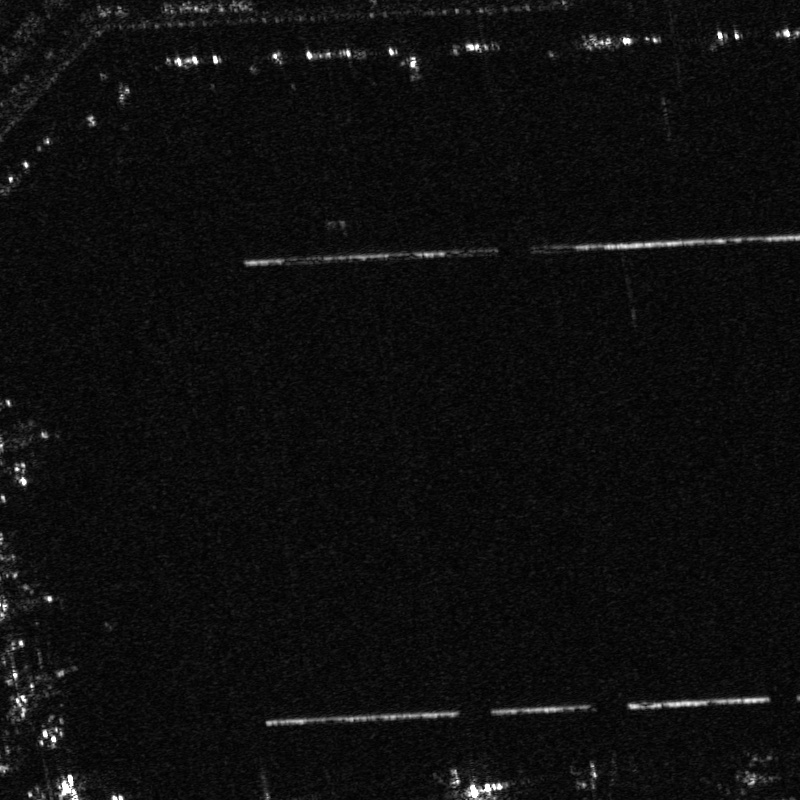A320/321: (438, 764, 515, 799)
